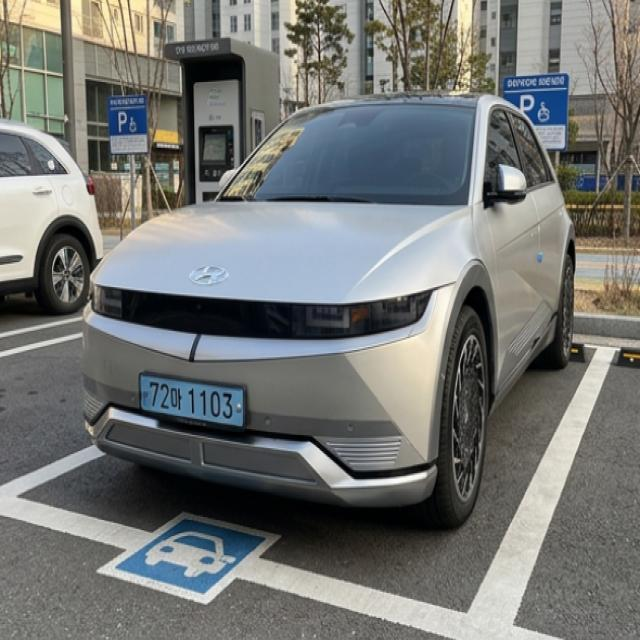car: (128, 370, 266, 438)
carev: (233, 378, 250, 435), (136, 369, 149, 415)
